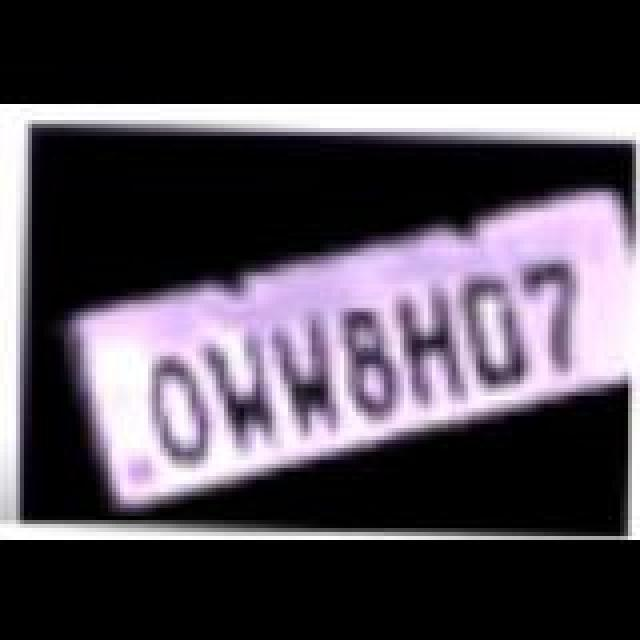7: (508, 252, 604, 372)
8: (320, 298, 416, 422)
D: (442, 268, 542, 388)
H: (374, 280, 482, 408)
O: (128, 348, 232, 468)
W: (252, 310, 364, 442), (190, 326, 298, 450)
